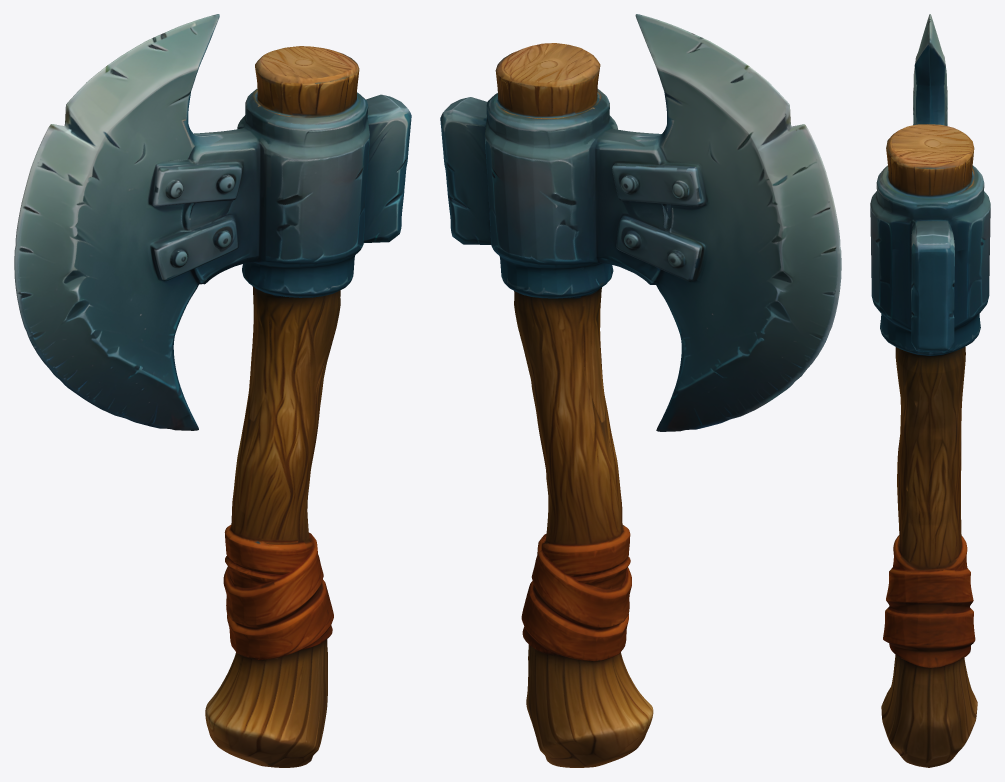
The model's file is pixellabs-fantasy-battle-axe-3006.high.glb.
3 renders of one model, left to right at view 1: azimuth 30°, elevation 25°; view 2: azimuth 150°, elevation 25°; view 3: azimuth 270°, elevation 25°, orthographic. The views are drawn at different scales.
Visible parts, largest first — view 1: material; view 2: material; view 3: material.
Boxes of the visible parts, x1,y1,x2,y2 form: material: [14, 14, 411, 767]; material: [440, 14, 841, 767]; material: [870, 14, 990, 767].
Bounding box in the file's own units: 0.6275 × 1.17 × 0.1845.
1 material, 1 textured.
